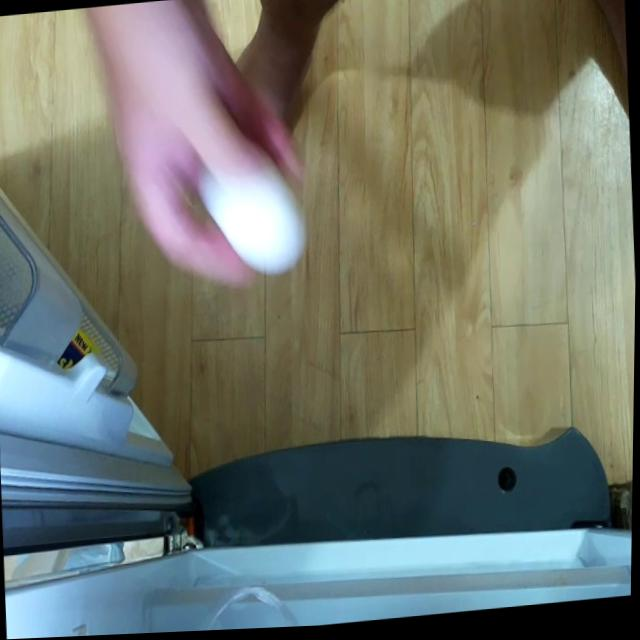egg: (198, 153, 308, 278)
